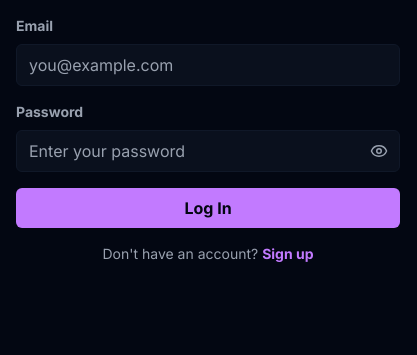
LoginForm › shows a success message after a successful login
This screenshot has width=417, height=355.
Step 1. Type "agent@example.com" into the field labelled "Email" → (208, 65), box [16,44,400,86]
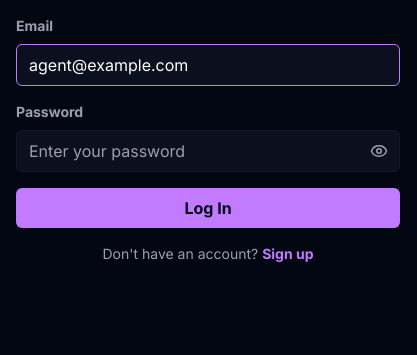
Step 2. Type "hunter2" into the password field labelled "Password" → (208, 151), box [16,130,400,172]
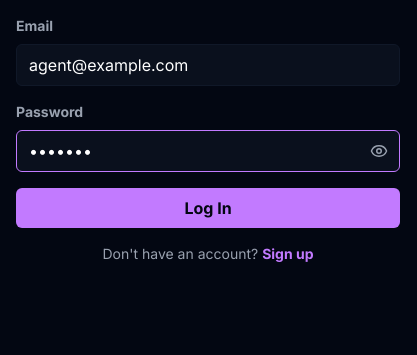
Step 3. Click the button "Log In" → (208, 208), box [16,188,400,228]
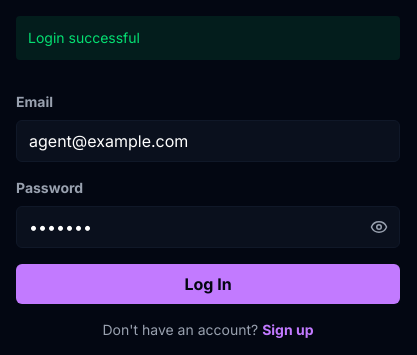
Expected: the text "Login successful" is shown, [16,16,400,60]
